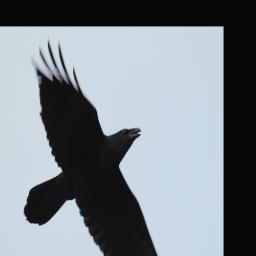Crow: (22, 36, 171, 256)
